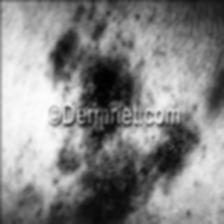Toxin: (46, 0, 199, 222)
